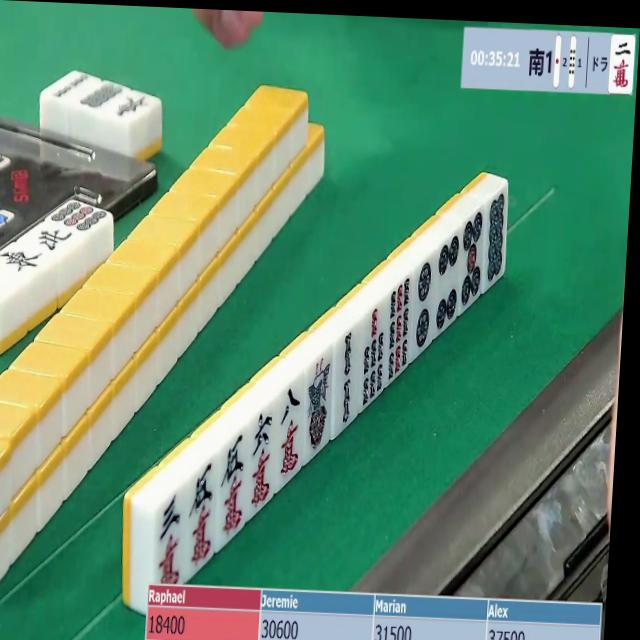m2: (610, 36, 635, 91)
m3: (151, 480, 190, 587)
m5: (185, 457, 223, 573), (219, 430, 253, 542)
m6: (248, 406, 277, 511)
m8: (274, 380, 308, 485)
s1: (306, 354, 336, 458)
s2: (333, 326, 364, 438)
s7: (360, 297, 390, 408)
s9: (385, 265, 417, 385)
t2: (411, 256, 438, 359)
t4: (434, 225, 461, 334)
t5: (459, 205, 486, 310)
t8: (482, 190, 507, 292)
